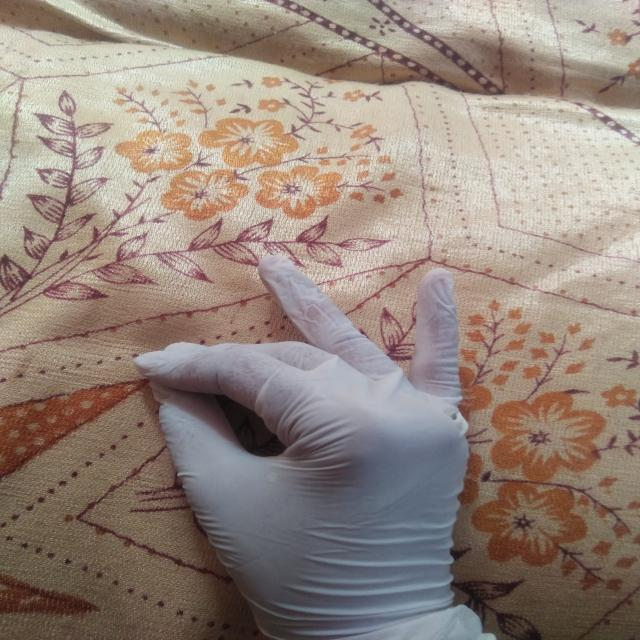glove_hand: (122, 247, 478, 634)
